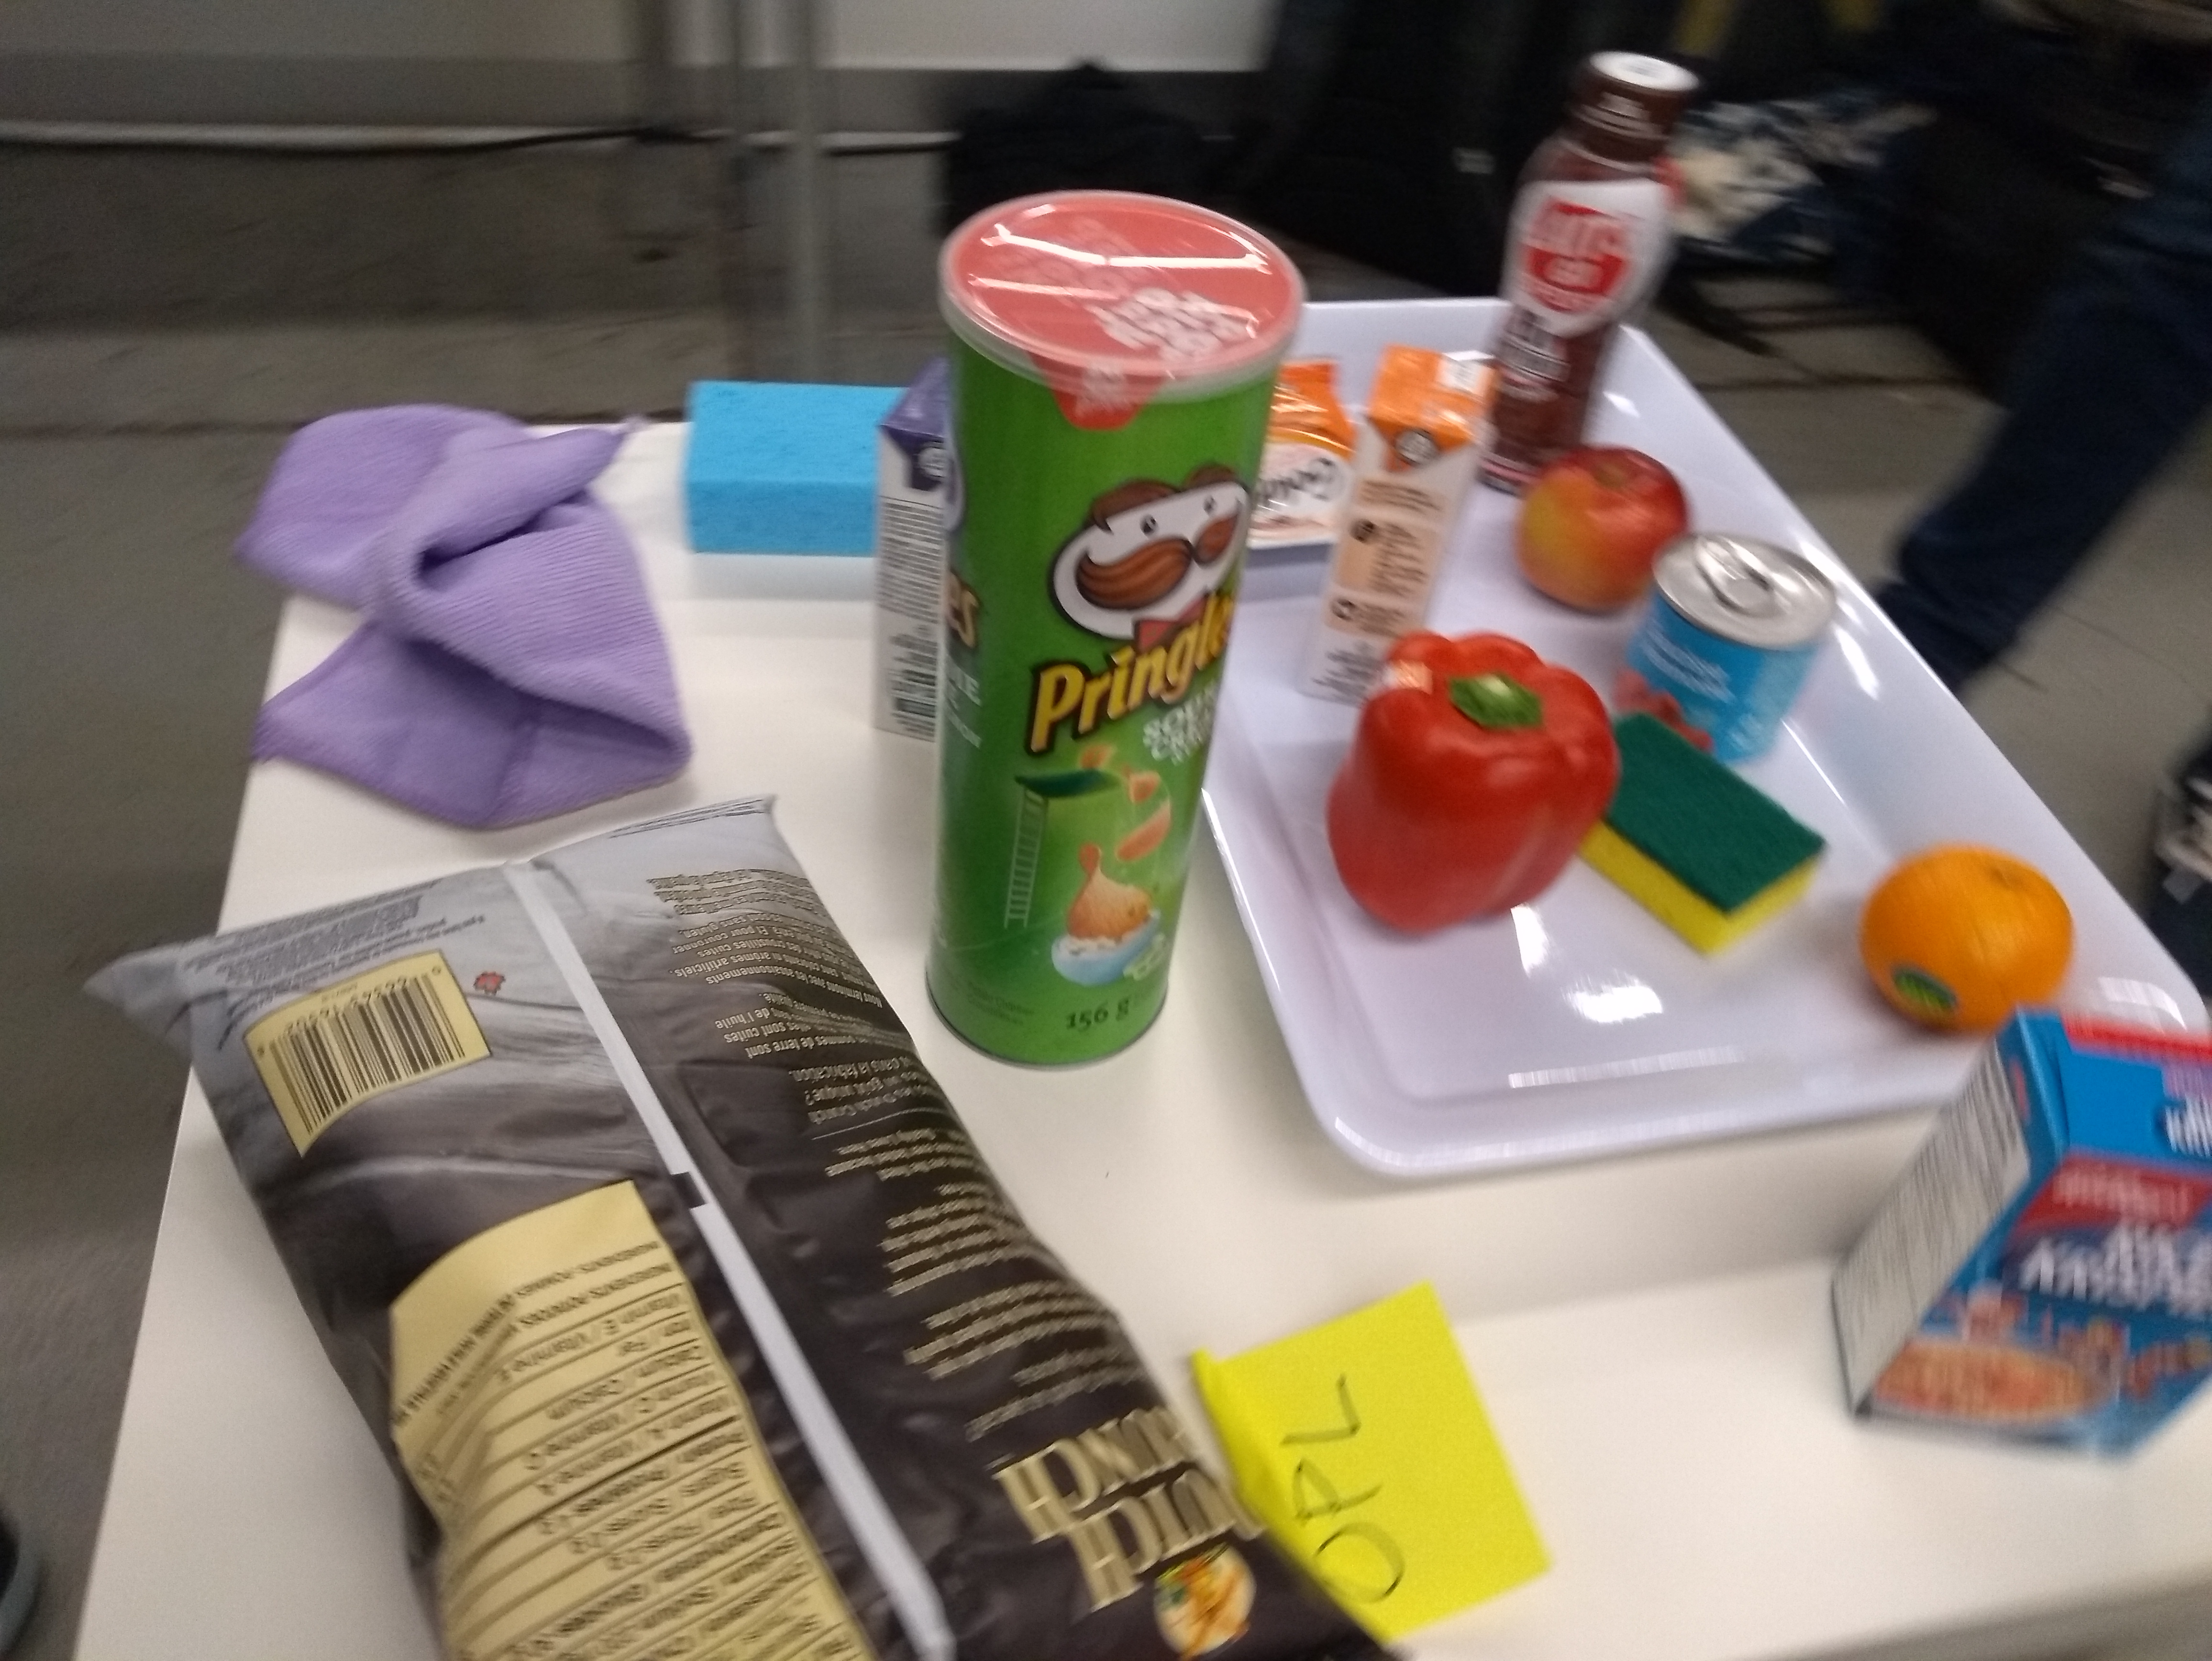apple: (1518, 436, 1692, 621)
cereal: (1825, 1000, 2212, 1464)
chocolate_drink: (1472, 28, 1699, 480)
cloth_opl: (270, 401, 708, 817)
orange: (1860, 832, 2071, 1031)
orange_juice: (1303, 347, 1500, 701)
paprika: (1331, 625, 1610, 958)
potato_chips: (134, 801, 1369, 1661)
pringles: (939, 166, 1308, 1083)
sausages: (1633, 530, 1842, 759)
scrubby: (1582, 715, 1835, 951)
sponge_opl: (675, 372, 902, 560)
